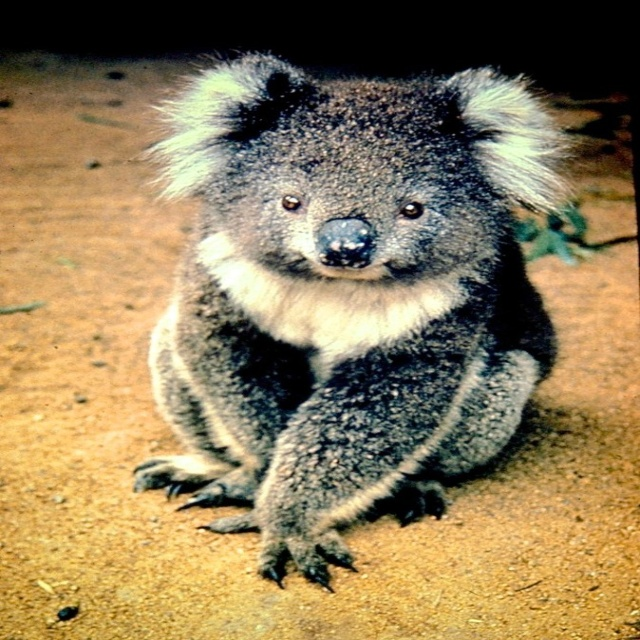Koala: (133, 51, 586, 592)
